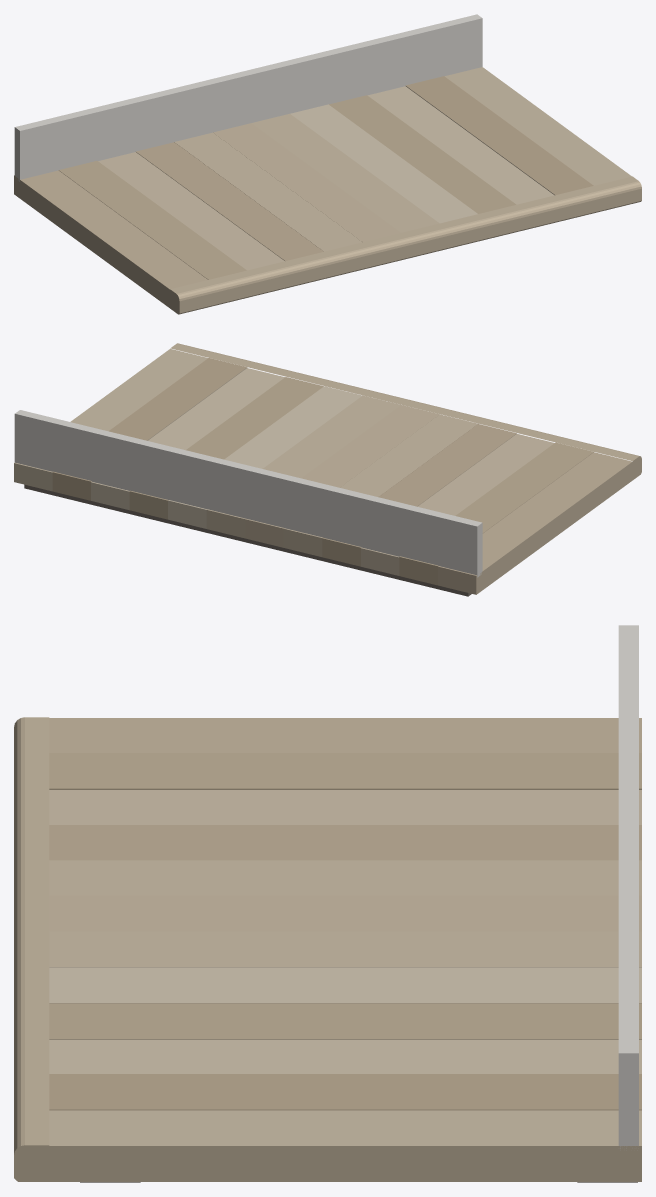
Rendered from worktop-run-643552.glb.
3 renders of one model, top to bottom at view 1: azimuth 30°, elevation 25°; view 2: azimuth 150°, elevation 25°; view 3: azimuth 270°, elevation 25°, orthographic. The views are drawn at different scales.
Visible parts, largest first — view 1: worktop; view 2: worktop; view 3: worktop.
Part boxes in pixels (x1=…): worktop: x1=14, y1=14, x2=641, y2=314; worktop: x1=14, y1=343, x2=641, y2=596; worktop: x1=14, y1=625, x2=641, y2=1182.
Size of the model in its own units: 1 by 0.15 by 0.62.
